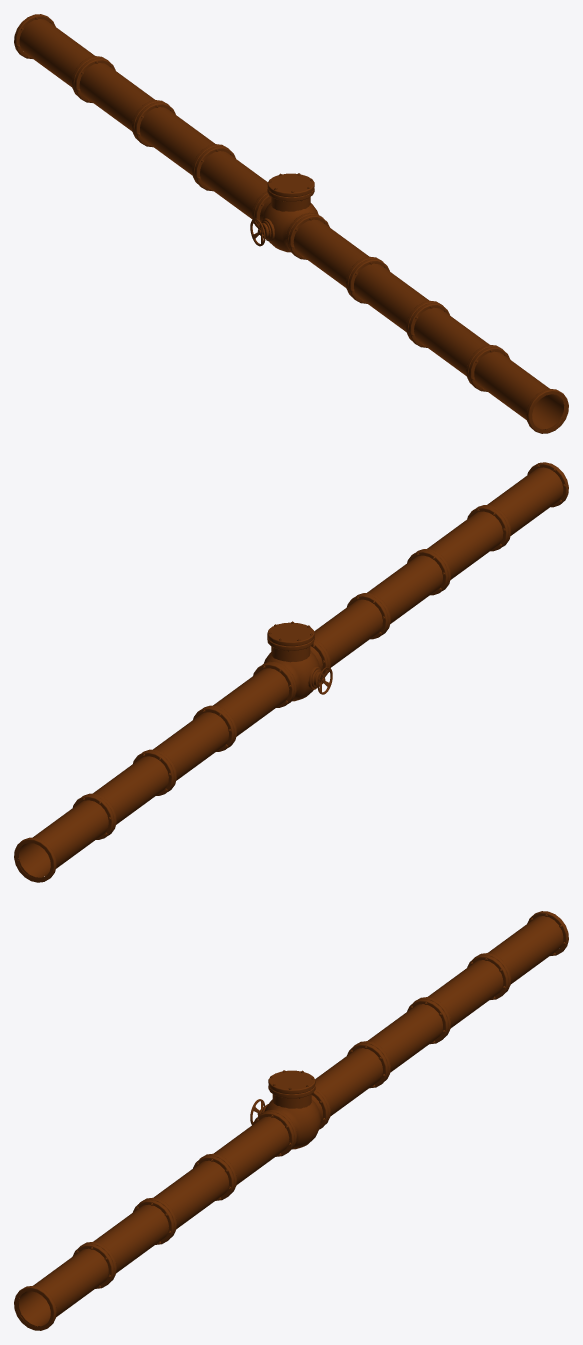
File: pipe.fbx
3 views of the same model, one above another, from view 1: azimuth 30°, elevation 25°; view 2: azimuth 150°, elevation 25°; view 3: azimuth 330°, elevation 25° (orthographic).
Parts seen in each view (by area): view 1: 03_01_0.002, 06_01_0, 03_01_0.006, 03_01_0.007, 03_01_0.004, 03_01_0.001, 03_01_0.003, 03_01_0, 03_01_0.005; view 2: 03_01_0.007, 06_01_0, 03_01_0.003, 03_01_0.004, 03_01_0.002, 03_01_0.005, 03_01_0.006, 03_01_0.001, 03_01_0; view 3: 03_01_0.002, 06_01_0, 03_01_0.006, 03_01_0.007, 03_01_0.004, 03_01_0.001, 03_01_0.003, 03_01_0, 03_01_0.005.
Part boxes in pixels (x1=…): 03_01_0.002: x1=468, y1=347, x2=568, y2=433; 06_01_0: x1=250, y1=173, x2=322, y2=253; 03_01_0.006: x1=74, y1=58, x2=168, y2=140; 03_01_0.007: x1=14, y1=14, x2=108, y2=96; 03_01_0.004: x1=134, y1=102, x2=229, y2=185; 03_01_0.001: x1=348, y1=259, x2=443, y2=341; 03_01_0.003: x1=408, y1=303, x2=502, y2=385; 03_01_0: x1=288, y1=215, x2=382, y2=297; 03_01_0.005: x1=194, y1=146, x2=267, y2=226; 03_01_0.007: x1=14, y1=795, x2=114, y2=882; 06_01_0: x1=262, y1=621, x2=332, y2=703; 03_01_0.003: x1=417, y1=506, x2=508, y2=590; 03_01_0.004: x1=142, y1=707, x2=234, y2=791; 03_01_0.002: x1=477, y1=462, x2=568, y2=546; 03_01_0.005: x1=203, y1=663, x2=294, y2=747; 03_01_0.006: x1=82, y1=751, x2=174, y2=835; 03_01_0.001: x1=357, y1=550, x2=448, y2=634; 03_01_0: x1=314, y1=594, x2=388, y2=676; 03_01_0.002: x1=14, y1=1244, x2=114, y2=1330; 06_01_0: x1=250, y1=1070, x2=328, y2=1150; 03_01_0.006: x1=414, y1=955, x2=508, y2=1037; 03_01_0.007: x1=474, y1=911, x2=568, y2=993; 03_01_0.004: x1=353, y1=999, x2=448, y2=1082; 03_01_0.001: x1=139, y1=1156, x2=234, y2=1238; 03_01_0.003: x1=80, y1=1200, x2=174, y2=1282; 03_01_0: x1=200, y1=1112, x2=294, y2=1194; 03_01_0.005: x1=315, y1=1043, x2=388, y2=1124.
Size of the model in its own units: 69.81 by 76.72 by 1050.
